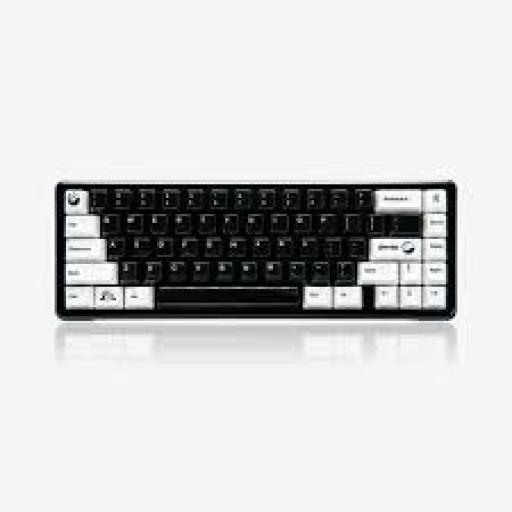keyboard: (55, 182, 455, 319)
